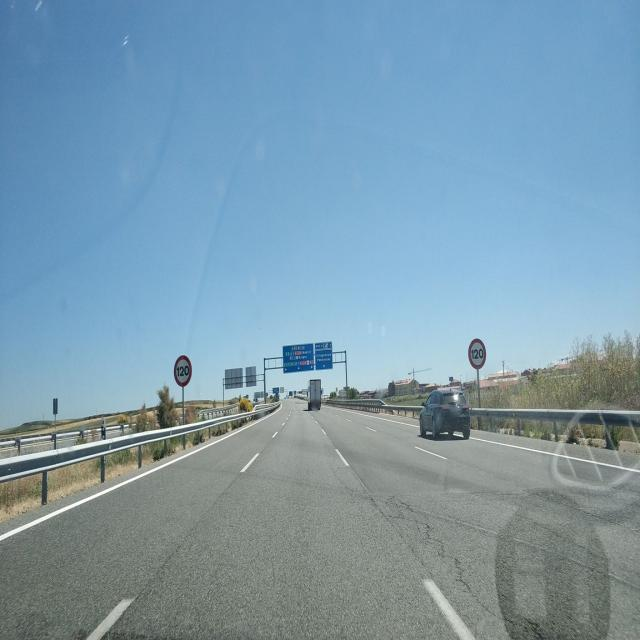car: (419, 386, 471, 440), (306, 377, 322, 411)
